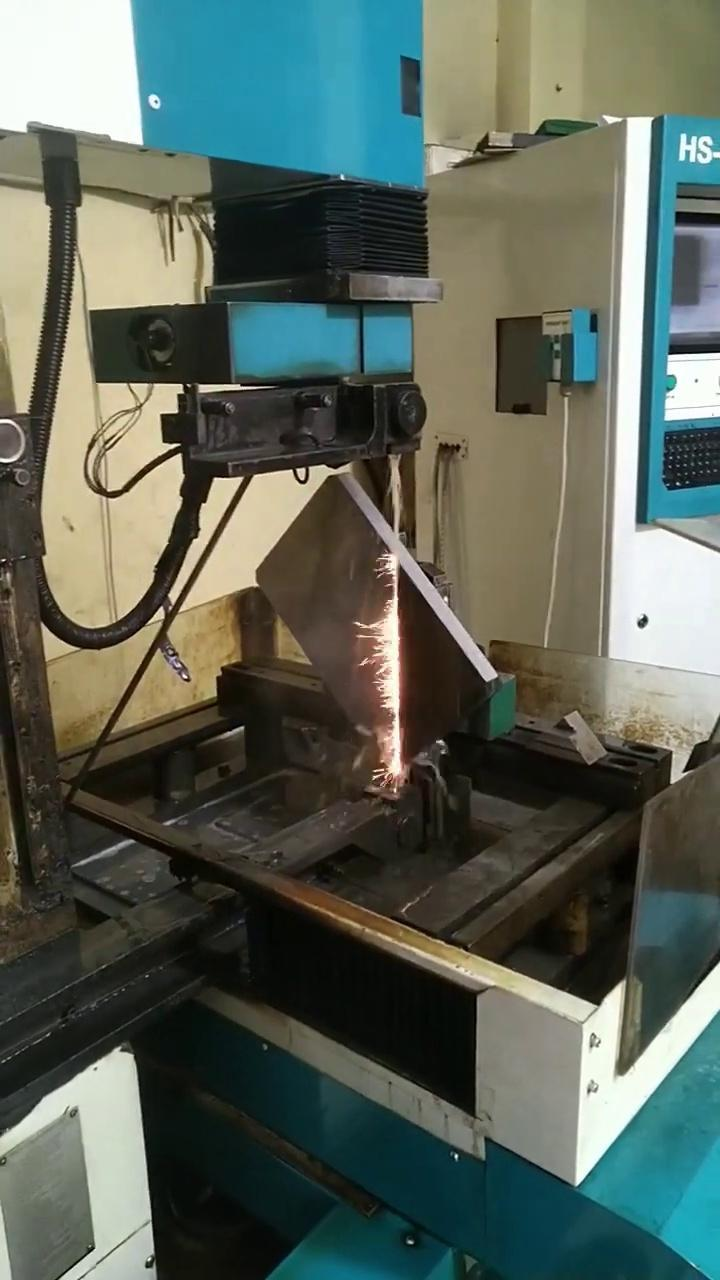fire: (281, 379, 445, 857)
